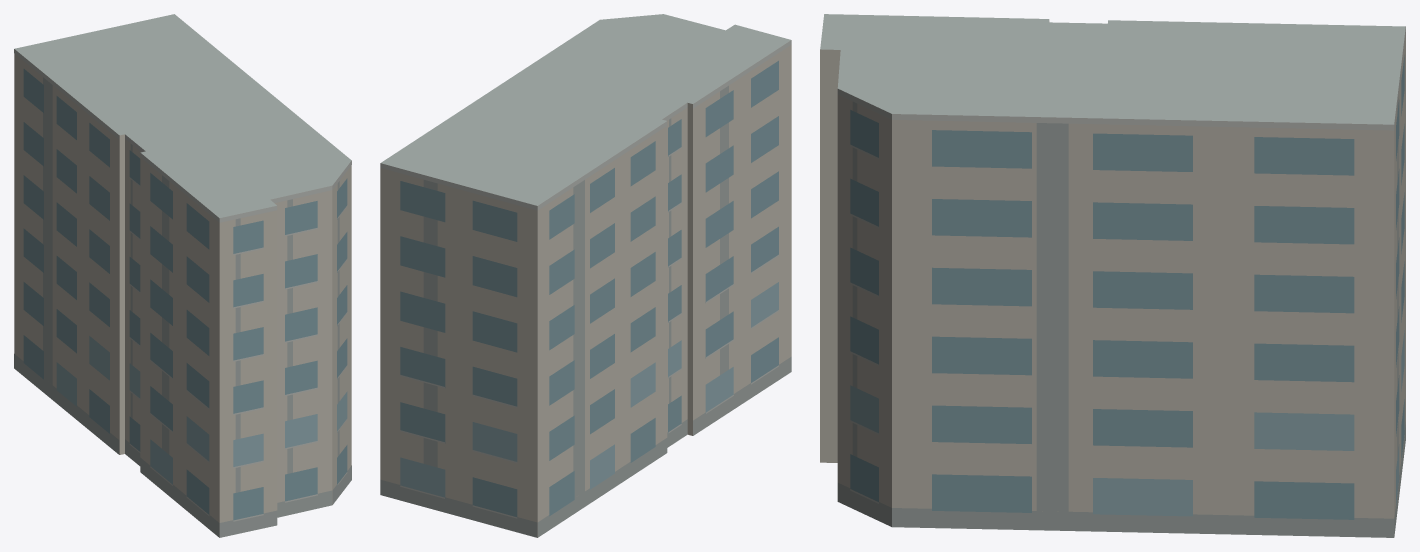
The model's file is survey-upis-32939323.glb.
3 renders of one model, left to right at view 1: azimuth 30°, elevation 25°; view 2: azimuth 150°, elevation 25°; view 3: azimuth 270°, elevation 25°, orthographic. The views are drawn at different scales.
Visible parts, largest first — view 1: survey-upis-32939323.tmp; view 2: survey-upis-32939323.tmp; view 3: survey-upis-32939323.tmp.
Part boxes in pixels (bbox=[...]): survey-upis-32939323.tmp: bbox=[14, 14, 351, 537]; survey-upis-32939323.tmp: bbox=[380, 14, 791, 537]; survey-upis-32939323.tmp: bbox=[820, 14, 1405, 537].
Bounding box in the file's own units: 9.83 × 17.1 × 21.98.
